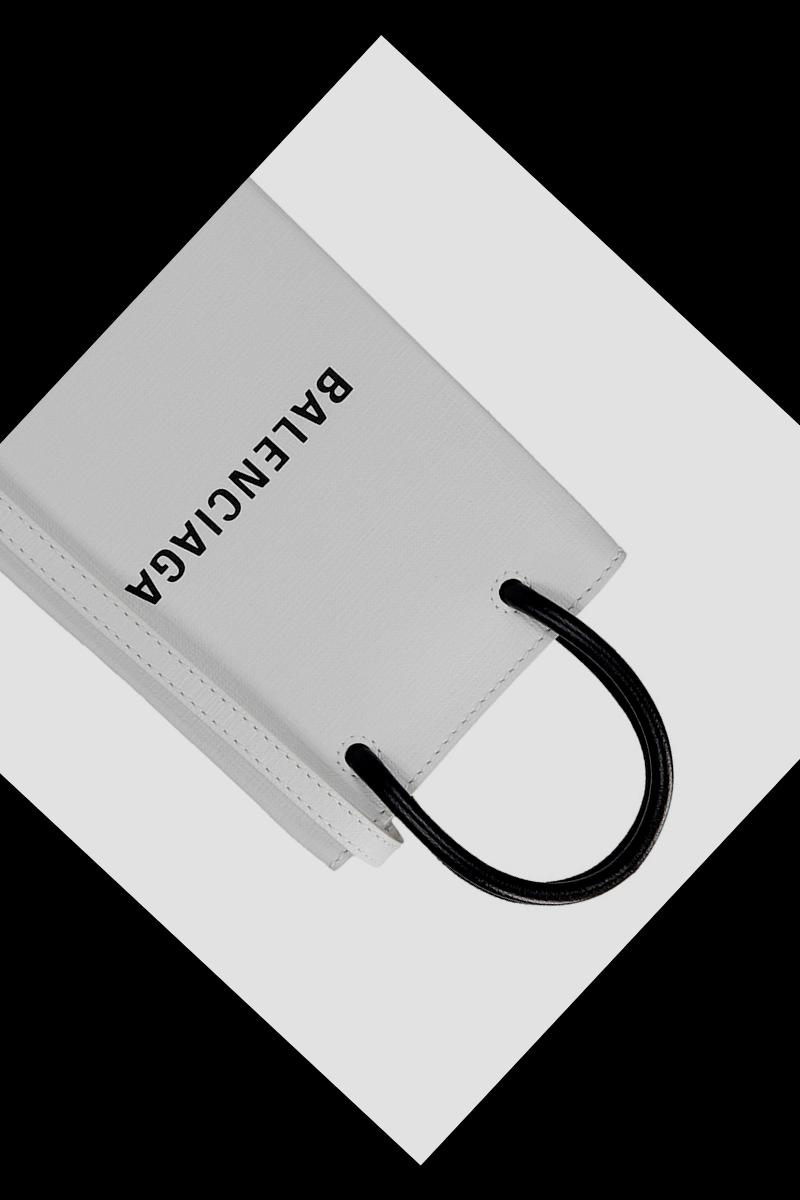BALENCIAGA: (120, 365, 354, 612)
